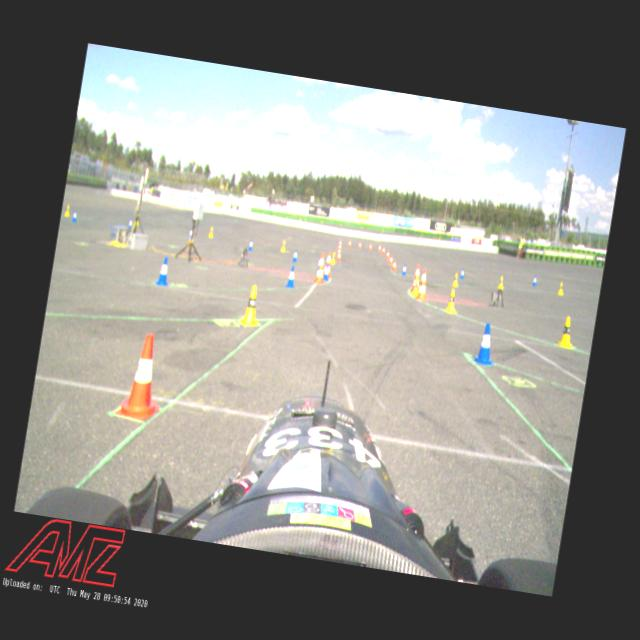blue_cone: (473, 322, 497, 366), (155, 256, 172, 286), (284, 262, 298, 288), (322, 262, 331, 282), (247, 238, 254, 254), (292, 248, 300, 262), (72, 210, 79, 222), (532, 274, 539, 286), (402, 263, 408, 276), (460, 267, 466, 280)
large_orange_cone: (416, 268, 432, 301), (313, 252, 328, 284), (410, 264, 422, 296), (322, 250, 333, 280)
orange_cone: (116, 328, 168, 419), (392, 260, 398, 272), (336, 250, 342, 262), (388, 256, 393, 266), (386, 250, 390, 260), (368, 243, 373, 250), (358, 241, 362, 249), (378, 244, 382, 252), (348, 241, 352, 248), (382, 247, 386, 254)
yellow_cone: (240, 284, 263, 328), (556, 314, 576, 349), (444, 288, 458, 317), (411, 274, 422, 298), (63, 201, 71, 218), (452, 272, 460, 288), (498, 274, 506, 290), (557, 282, 565, 296), (280, 239, 288, 253), (330, 252, 338, 266), (207, 228, 215, 238)
